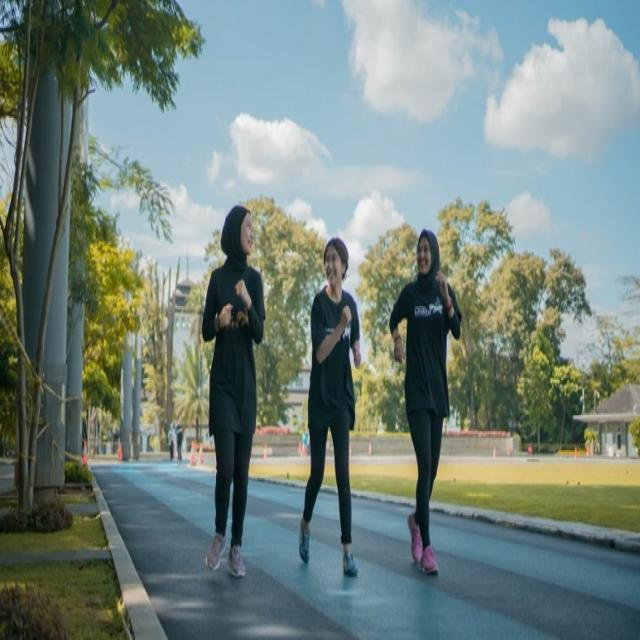Person: (389, 229, 463, 578), (202, 205, 265, 579), (299, 238, 362, 576)
